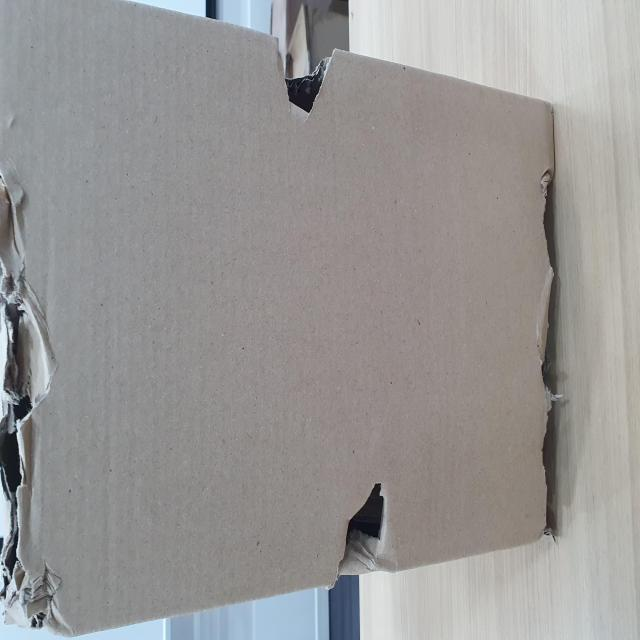damaged: (14, 0, 249, 71), (288, 482, 335, 606), (41, 598, 104, 640)
